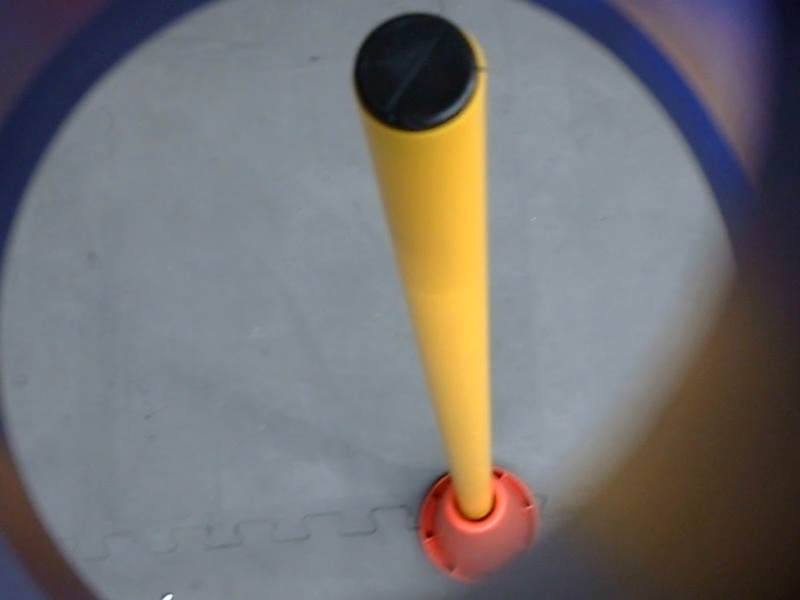tip: (342, 4, 495, 144)
